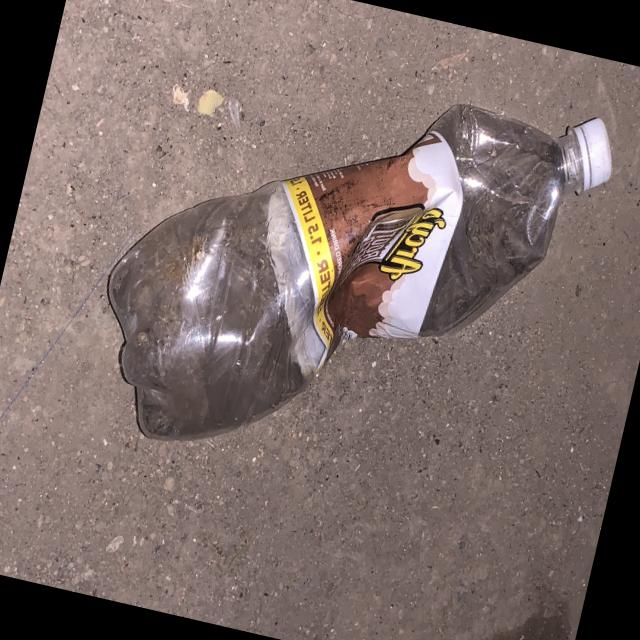Bottle: (107, 103, 611, 440)
